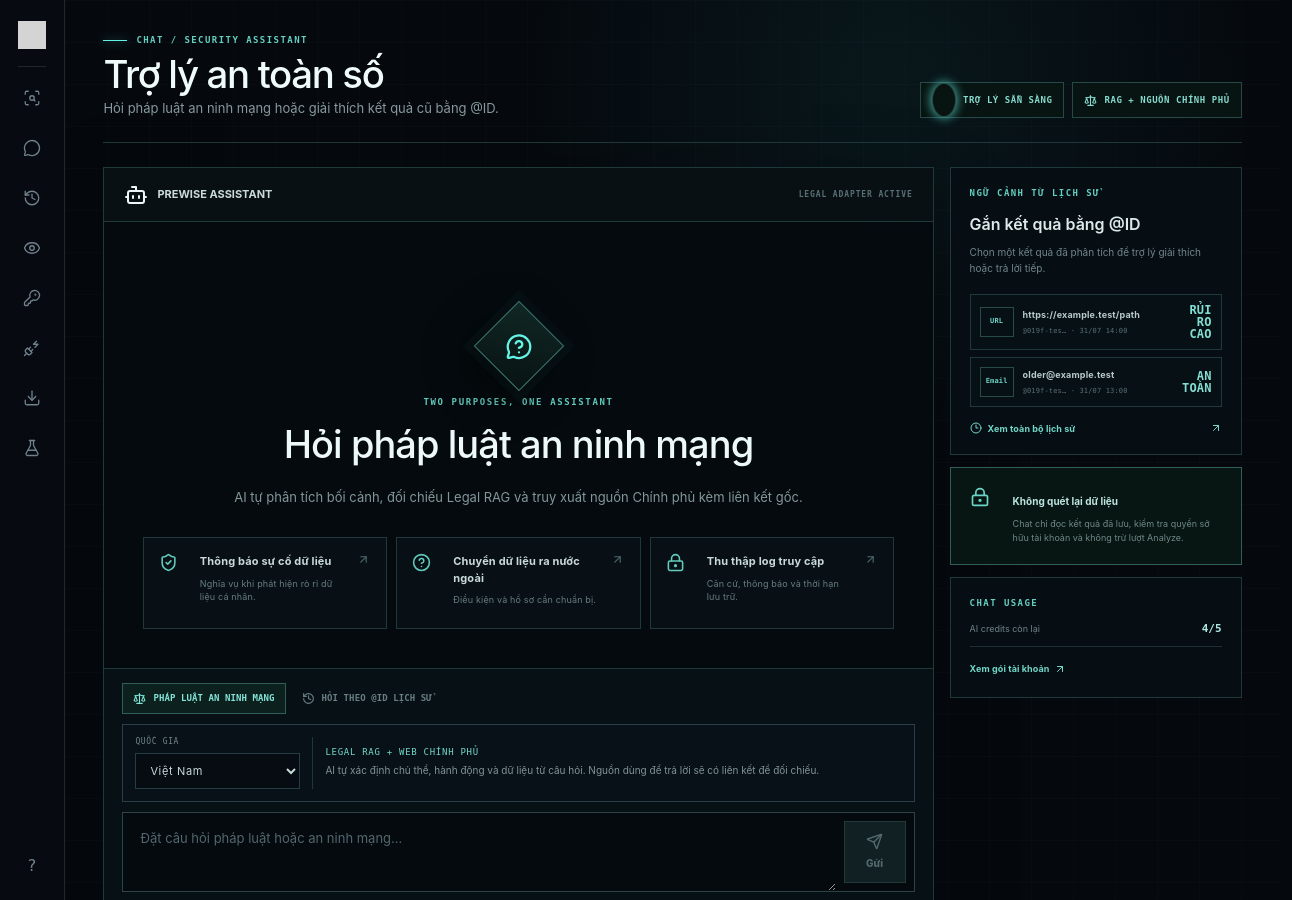
it: ChatPage question-and-answer contract › opens newest-first history suggestions when the user types @
Check: the button with aria-label "Gắn kết quả @019f-test-history-0001" is shown, box [970,294,1222,350]
Type "@" into the text box named "Câu hỏi cho trợ lý". click: (480, 852)
box: [123,813,836,891]
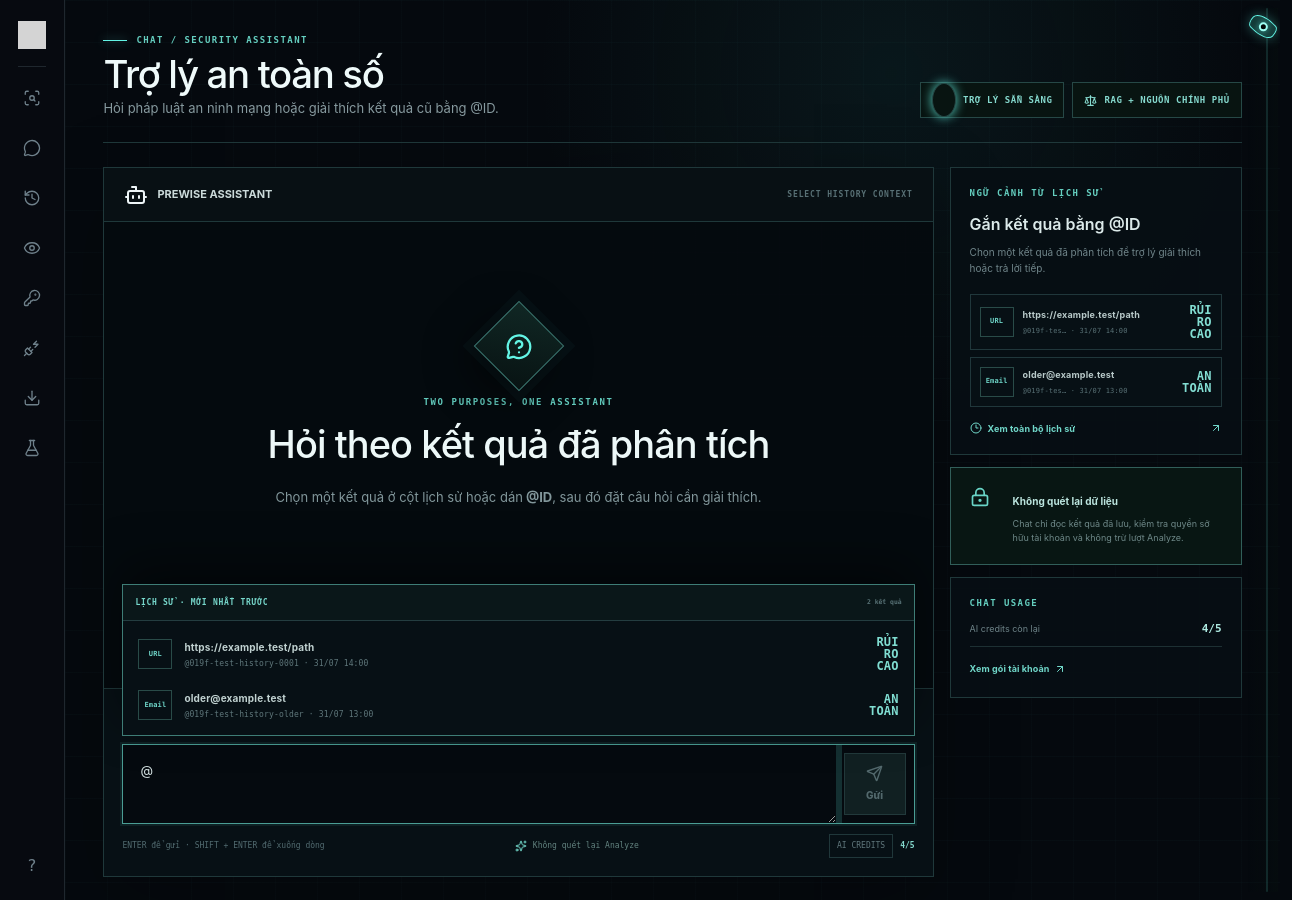
Check: the list named "Gợi ý lịch sử" is shown, box [122,584,915,736]
Check: the number of options is 2
Click the option with aria-label "Chọn lịch sử @019f-test-history-0001". click: (155, 654)
box: [129,627,908,681]
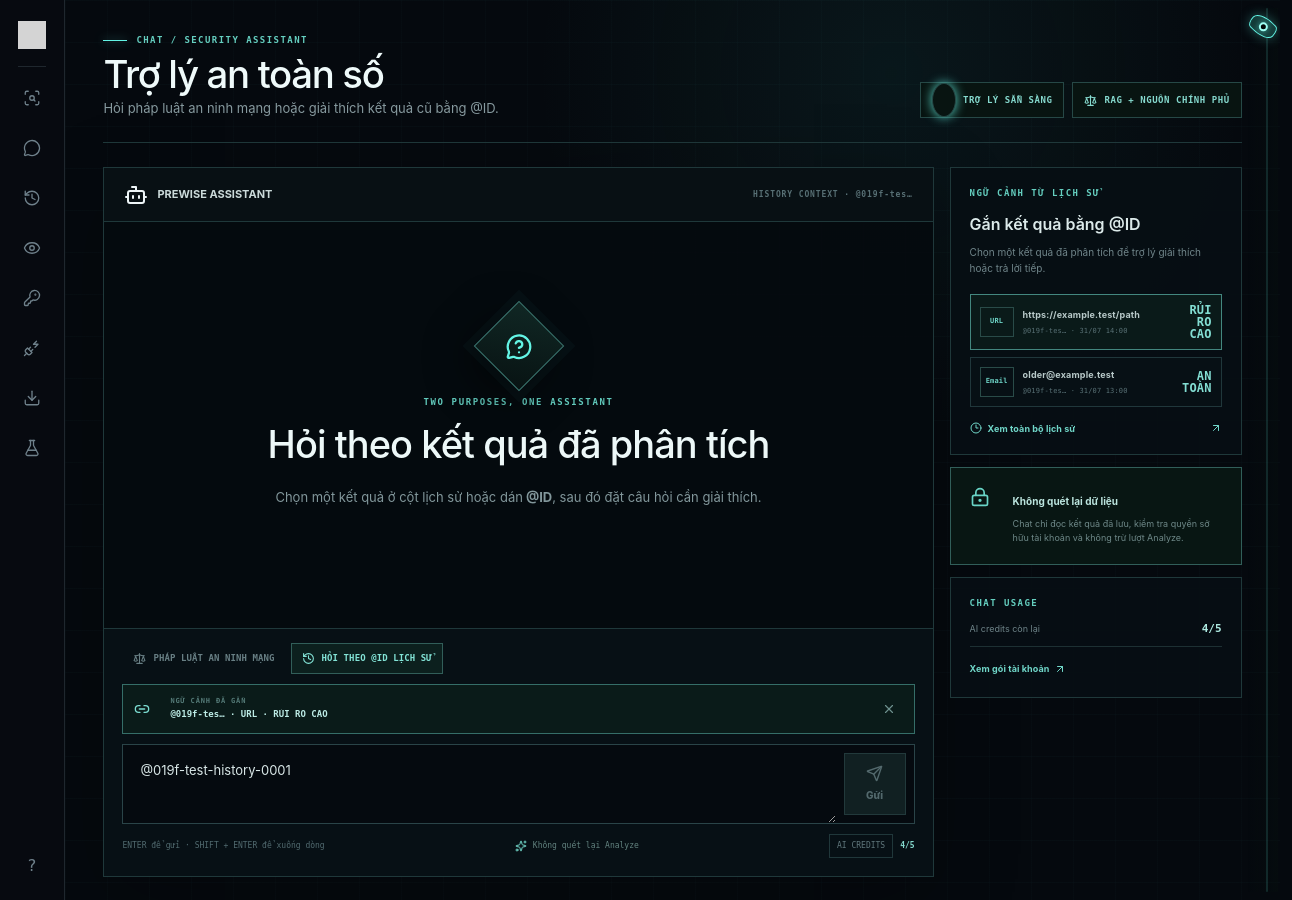
Check: the text box named "Câu hỏi cho trợ lý" holds "@019f-test-history-0001 ", box [123,745,836,823]
